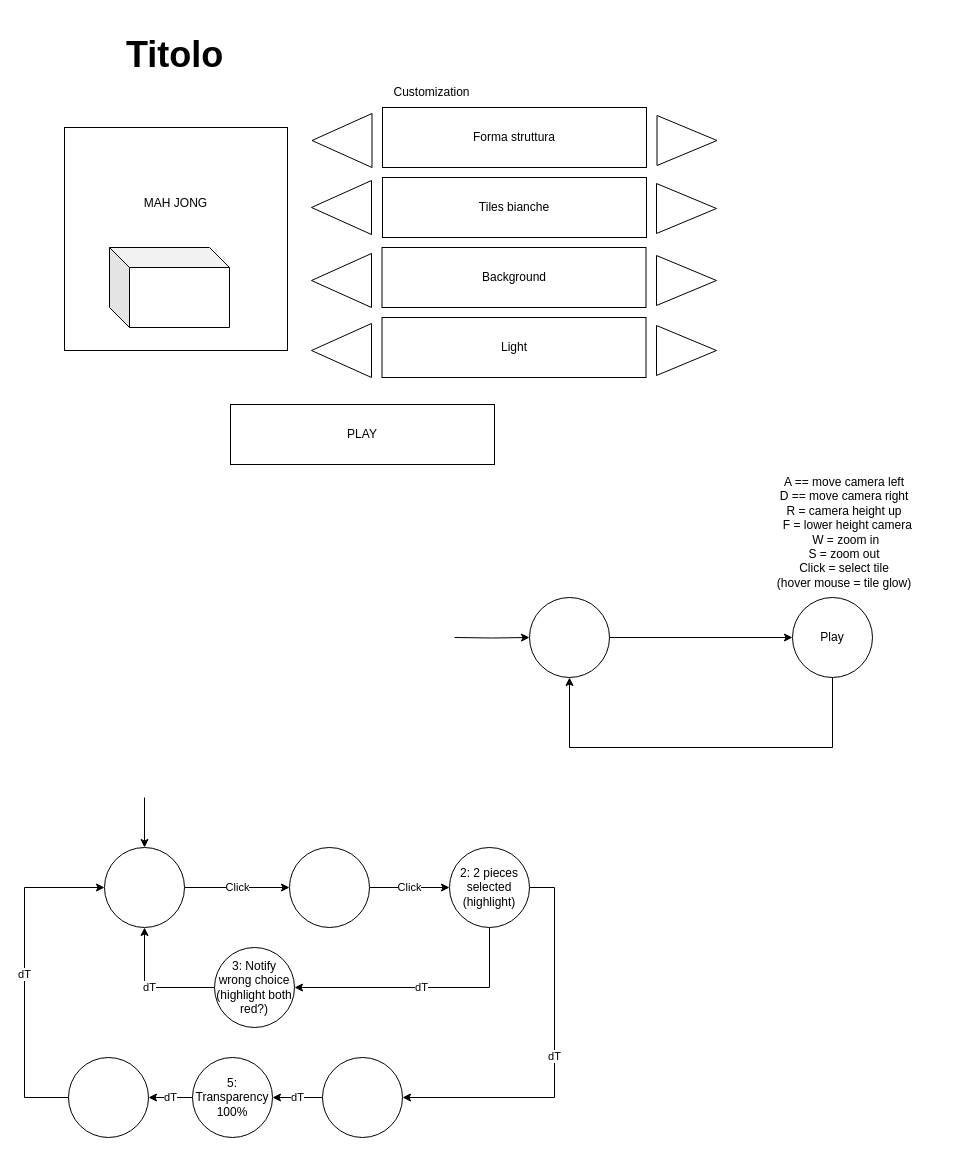
Image size: 962x1155. Some labels were removed from this diagram. The centre of each missing label's shape, as x and y in pixels:
"0: No piece selected" belongs at (x=144, y=887).
"1: 1 piece selected (highlight)" belongs at (x=329, y=887).
"4: Piece starts to disappear" belongs at (x=362, y=1097).
"6: Remove obj ftom scene" belongs at (x=108, y=1097).
"Menu" belongs at (x=569, y=637).
